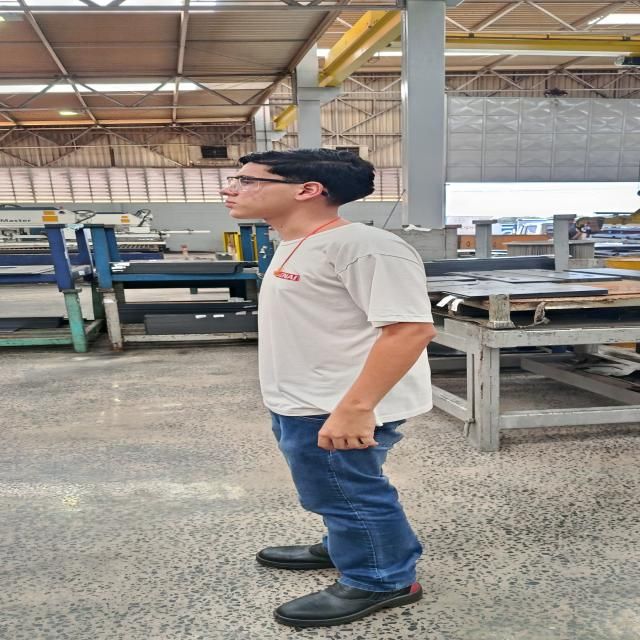oculos-epi: (227, 176, 310, 193), (321, 189, 330, 197)
